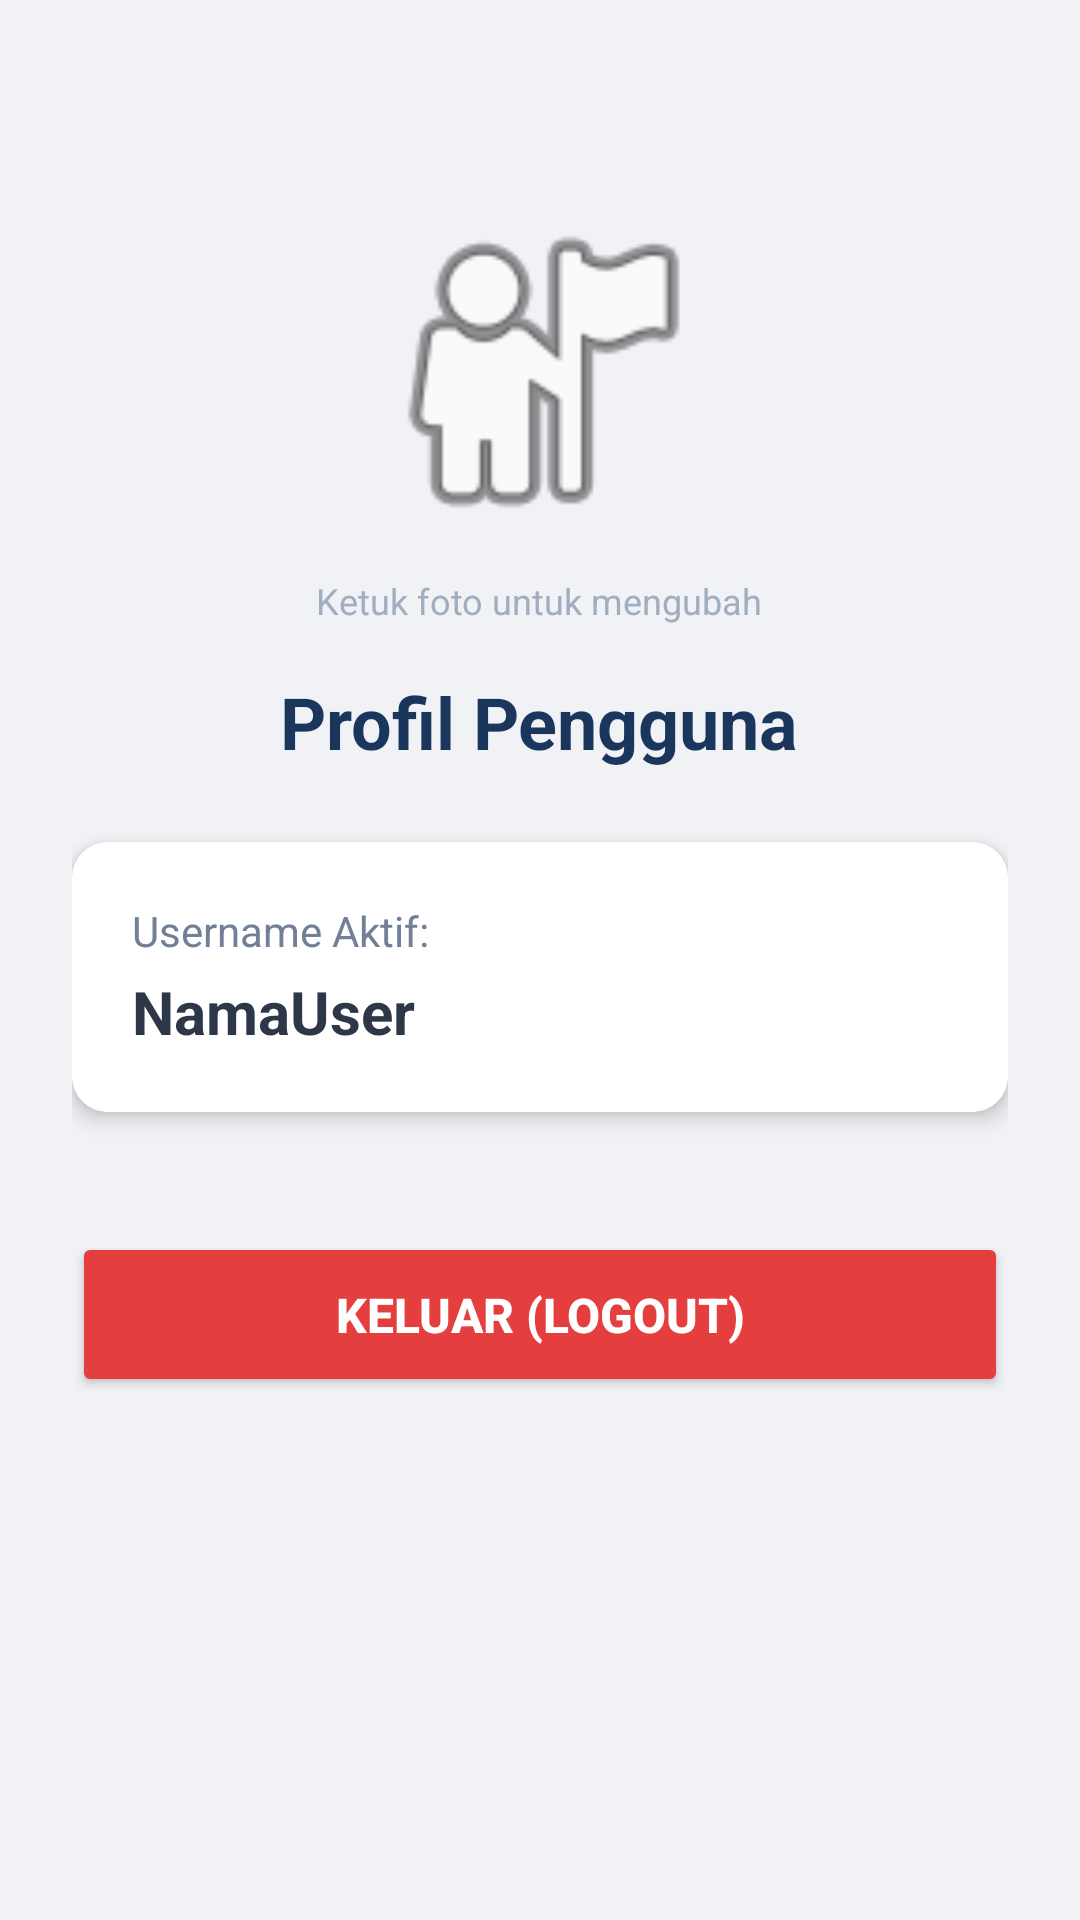

Screen size 1080*1920. Icon name, then its box in pixels as BBox(x1, y1, x2, y2):
myplaces: BBox(408, 237, 679, 507)
